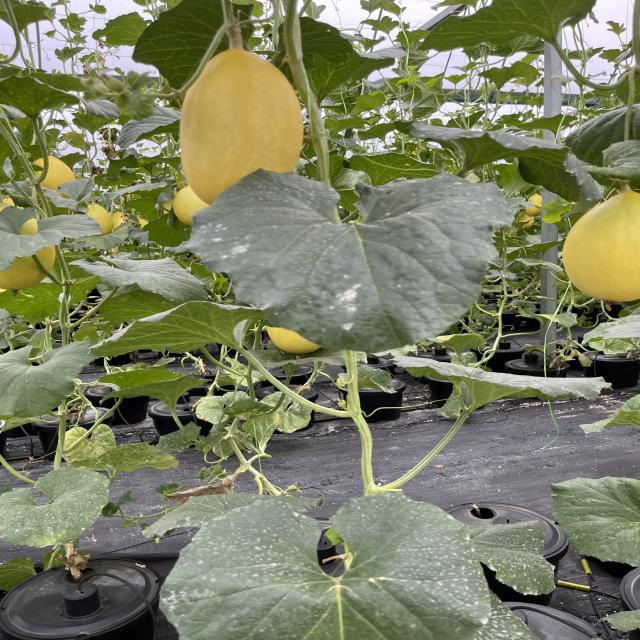CMV: (238, 414, 286, 455)
alternaria leaf blight: (82, 444, 183, 478)
downy mildew: (160, 491, 498, 640), (0, 462, 115, 551), (468, 514, 560, 594), (0, 74, 83, 122)
healthy: (84, 300, 266, 367), (419, 0, 598, 55), (90, 248, 214, 308), (98, 375, 207, 408), (347, 147, 438, 185)
